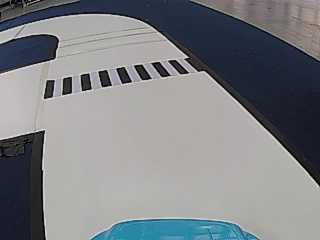CrossWalk: (50, 59, 193, 97)
